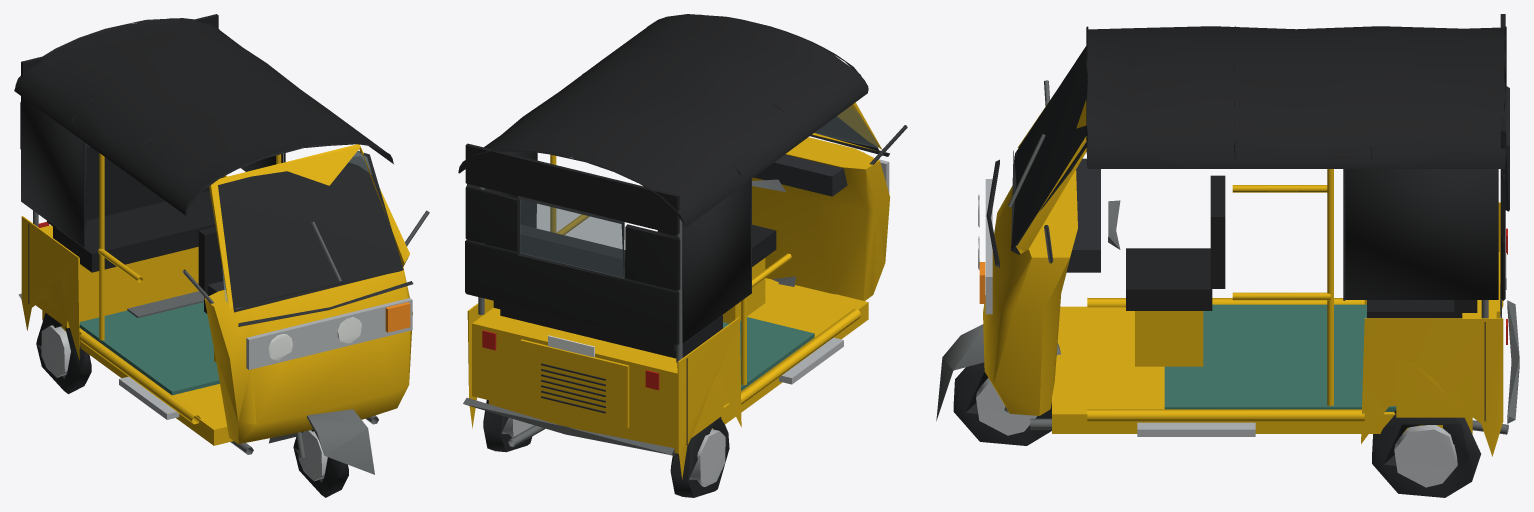
Rendered from keke_classic_lod2.glb.
The picture shows the model from 3 angles, left to right: view 1: azimuth 30°, elevation 25°; view 2: azimuth 150°, elevation 25°; view 3: azimuth 270°, elevation 25°; orthographic projection. The views are drawn at different scales.
Parts seen in each view (by area): view 1: Body; view 2: Body; view 3: Body.
Boxes of the visible parts, box(x1,y1,x2,y2) form: Body: box(14, 14, 429, 497); Body: box(458, 14, 907, 497); Body: box(936, 14, 1519, 497).
Size of the model in its own units: 1.54 by 1.89 by 2.57.
